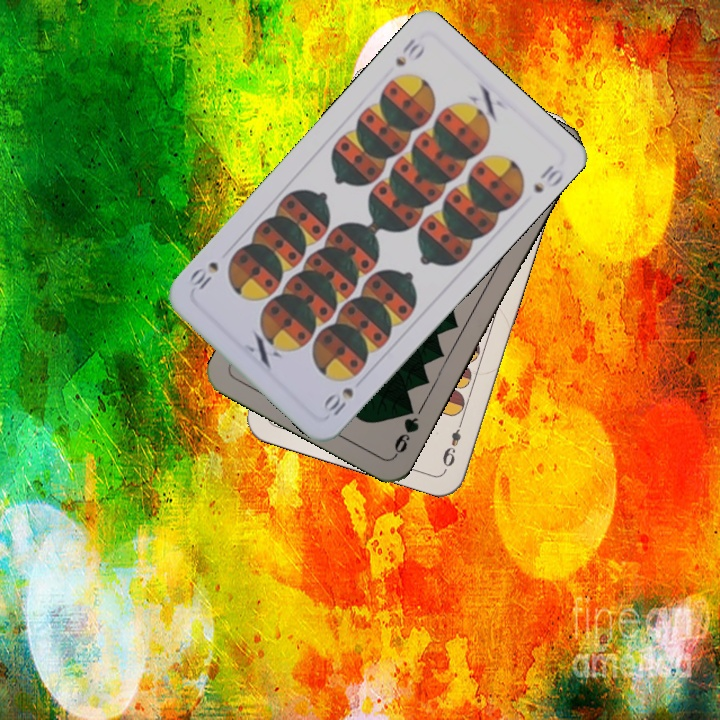E9: (438, 415, 466, 470)
G9: (390, 399, 422, 459)
S10: (318, 383, 357, 419), (391, 34, 428, 69)
